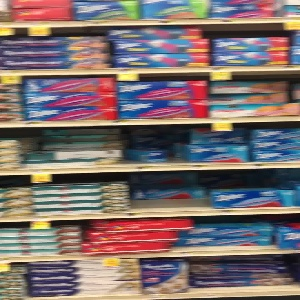void: (128, 174, 211, 209), (122, 131, 184, 162)
